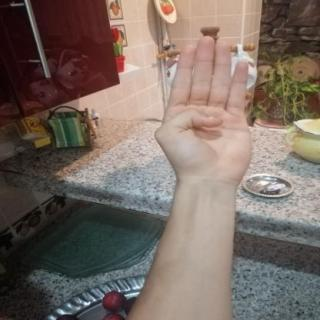KAAF: (144, 28, 268, 192)
